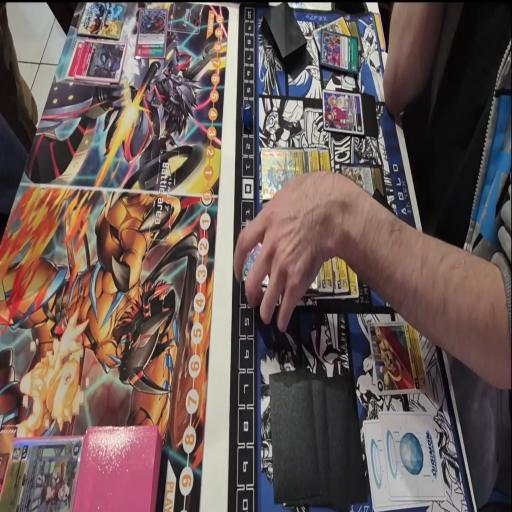card: (0, 431, 88, 512), (369, 321, 421, 394), (259, 147, 307, 208), (134, 6, 168, 61), (76, 45, 129, 79), (341, 162, 386, 202), (322, 91, 363, 133), (310, 16, 351, 55), (320, 36, 358, 70), (304, 142, 321, 212), (333, 246, 351, 301), (64, 41, 84, 78), (320, 250, 334, 294), (346, 19, 362, 54), (349, 252, 359, 301), (318, 144, 330, 183)
